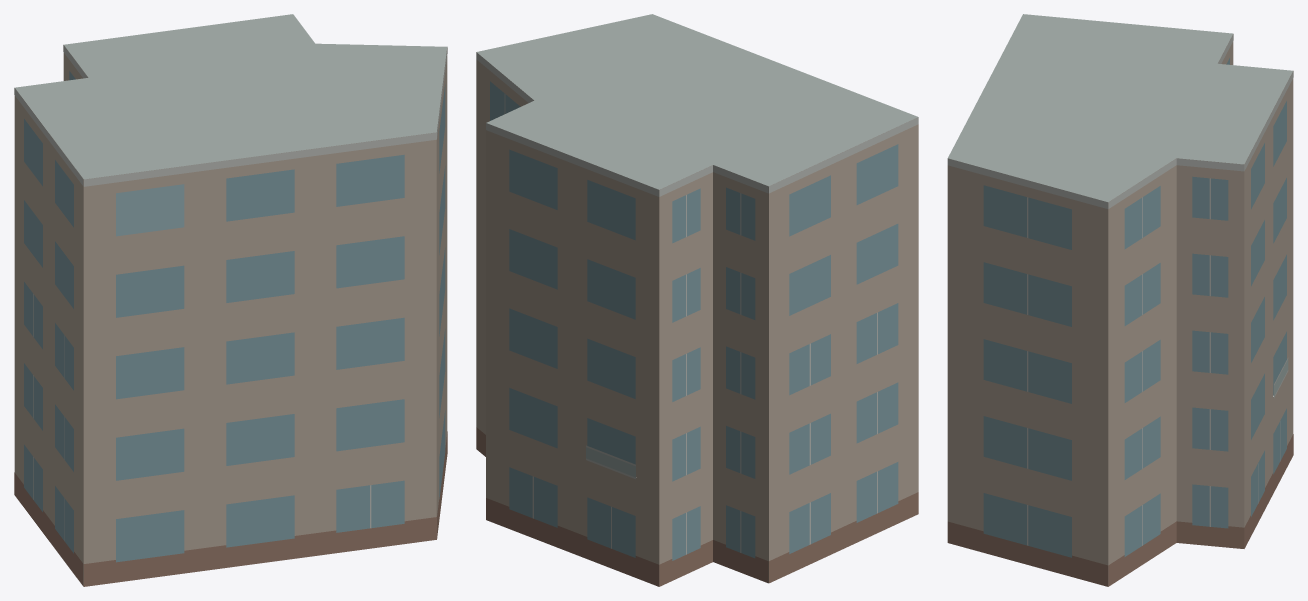
File: survey-upis-32720953.glb
3 renders of one model, left to right at view 1: azimuth 30°, elevation 25°; view 2: azimuth 150°, elevation 25°; view 3: azimuth 270°, elevation 25°, orthographic. The views are drawn at different scales.
Visible parts, largest first — view 1: survey-upis-32720953.tmp; view 2: survey-upis-32720953.tmp; view 3: survey-upis-32720953.tmp.
Part boxes in pixels (left/top/right/bottom): survey-upis-32720953.tmp: left=14, top=14, right=447, bottom=586; survey-upis-32720953.tmp: left=476, top=14, right=918, bottom=586; survey-upis-32720953.tmp: left=947, top=14, right=1293, bottom=586.
Bounding box in the file's own units: 14.13 × 13.45 × 10.97.
